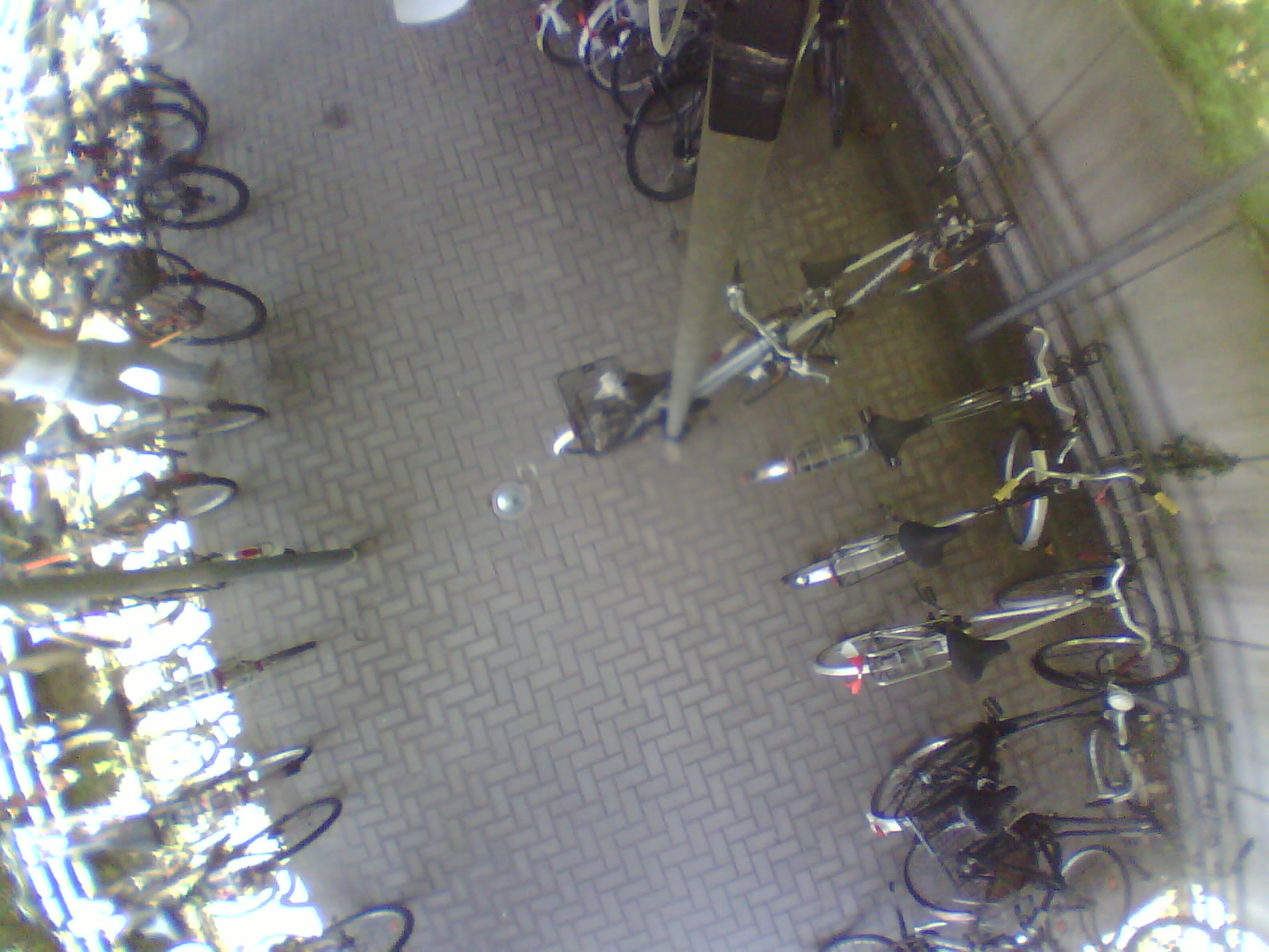bicylce: (868, 636, 1188, 841), (636, 0, 868, 210), (30, 791, 343, 944), (783, 424, 1054, 596), (554, 309, 839, 470), (756, 214, 1019, 377), (0, 639, 316, 770), (0, 734, 314, 860), (750, 366, 1070, 488), (816, 562, 1143, 674), (0, 249, 269, 355), (2, 533, 286, 625), (0, 455, 241, 556), (0, 148, 245, 235), (0, 389, 279, 465), (0, 232, 205, 309)
saddle: (64, 680, 139, 752), (89, 804, 162, 864), (16, 411, 90, 470), (945, 624, 1014, 682), (893, 513, 964, 564), (134, 898, 196, 952), (8, 493, 70, 546), (959, 791, 1028, 835), (863, 414, 927, 455), (803, 246, 861, 288), (624, 367, 680, 408), (7, 218, 51, 267), (25, 116, 90, 146)
